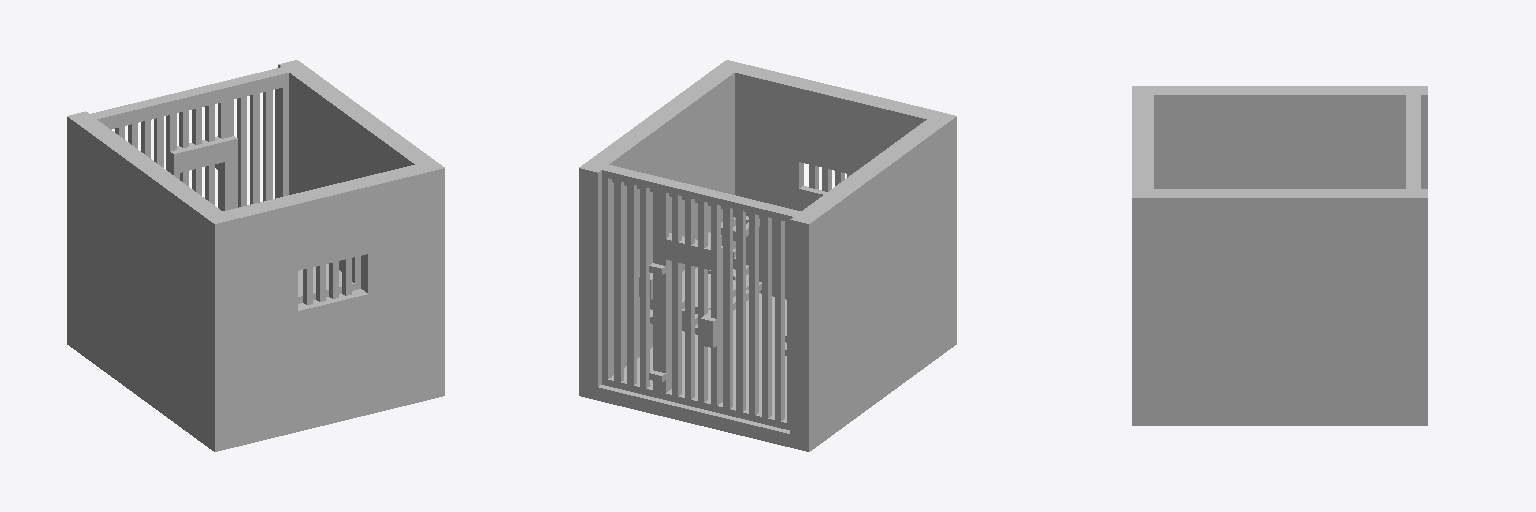
The model's file is jail_room_final-0-jail scene.obj.
3 views of the same model, side by side, from view 1: azimuth 30°, elevation 25°; view 2: azimuth 150°, elevation 25°; view 3: azimuth 270°, elevation 25° (orthographic).
Parts seen in each view (by area): view 1: jail scene; view 2: jail scene; view 3: jail scene.
Boxes of the visible parts, <box> form: jail scene: <box>67,60,444,451</box>; jail scene: <box>579,60,956,451</box>; jail scene: <box>1132,86,1427,425</box>.
Bounding box in the file's own units: 3.6 × 3.4 × 4.